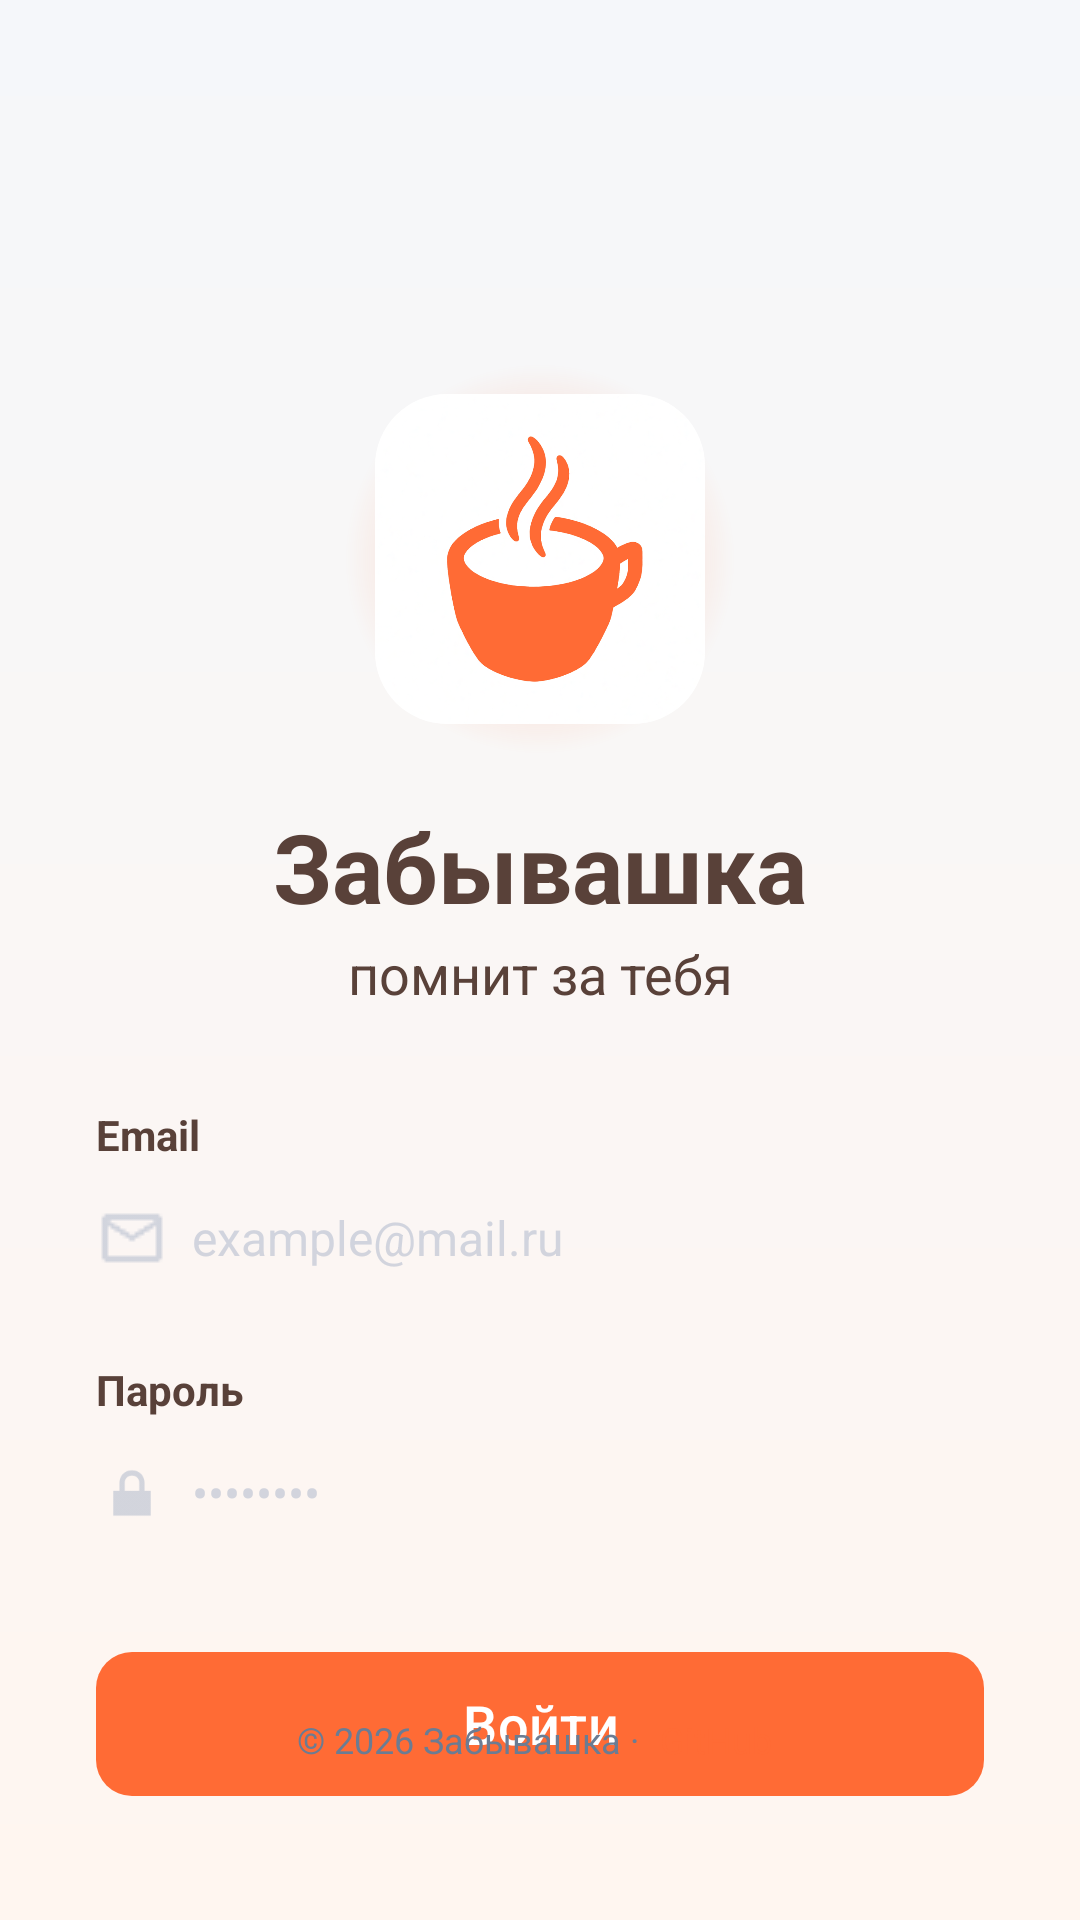

Icon click points for this 1080px x 1920px phone screenshot, format (x=x, y=y):
lock: (x=132, y=1493)
